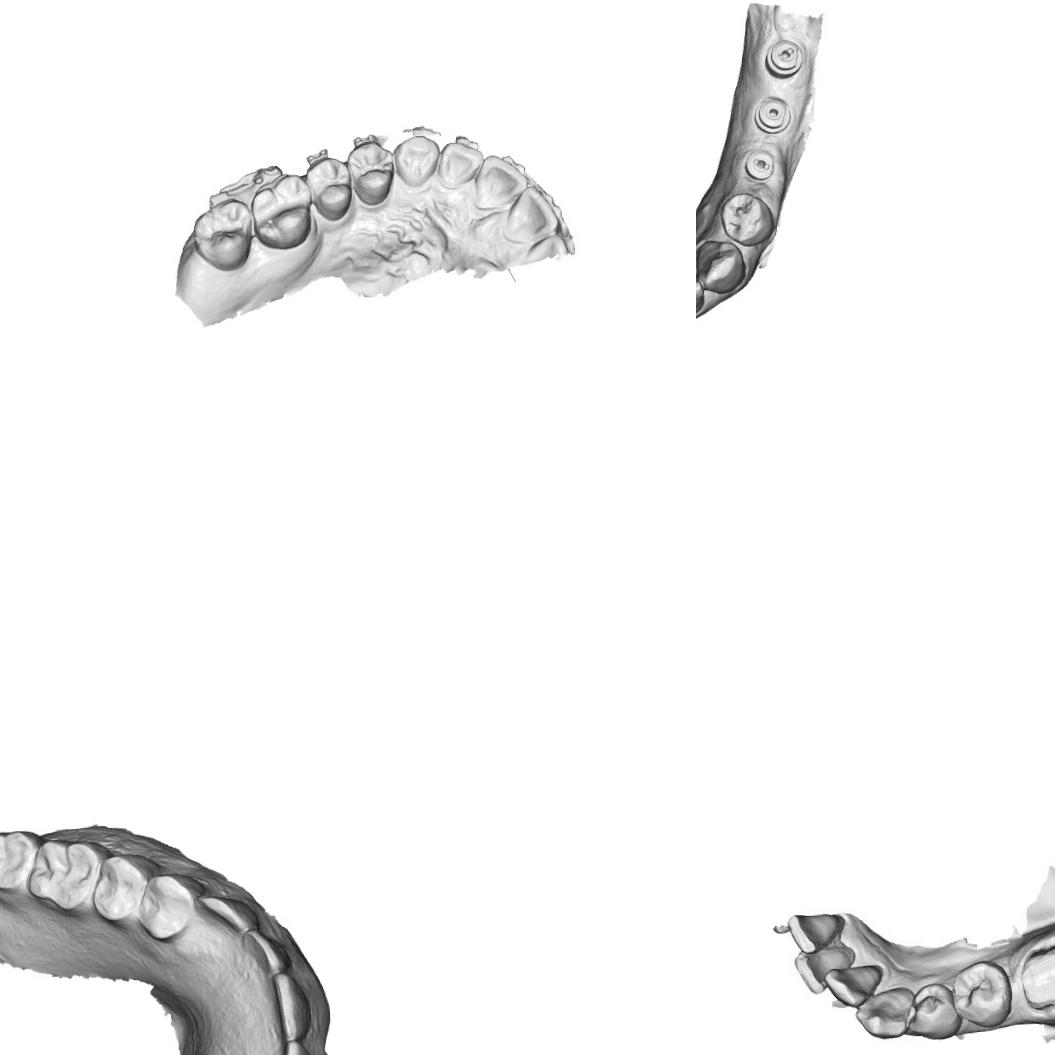canine: (849, 983, 920, 1043), (193, 882, 257, 941), (390, 132, 442, 190), (696, 238, 747, 295)
crown: (1021, 943, 1055, 1014)
implant: (752, 96, 792, 134)
implant_minus: (764, 39, 805, 81), (742, 148, 777, 183)
incisor: (501, 186, 558, 246), (473, 153, 531, 208), (270, 970, 311, 1042), (788, 909, 852, 953), (794, 944, 850, 991), (436, 140, 486, 192), (244, 926, 288, 976), (830, 964, 882, 1004), (271, 1040, 319, 1055), (696, 264, 706, 318)
molar: (23, 835, 104, 914), (248, 170, 314, 252), (190, 196, 255, 274), (0, 826, 37, 893)
premolar: (90, 851, 149, 921), (138, 872, 196, 940), (345, 138, 398, 208), (718, 188, 776, 248), (303, 155, 354, 223), (955, 964, 1008, 1026), (907, 984, 955, 1039)
